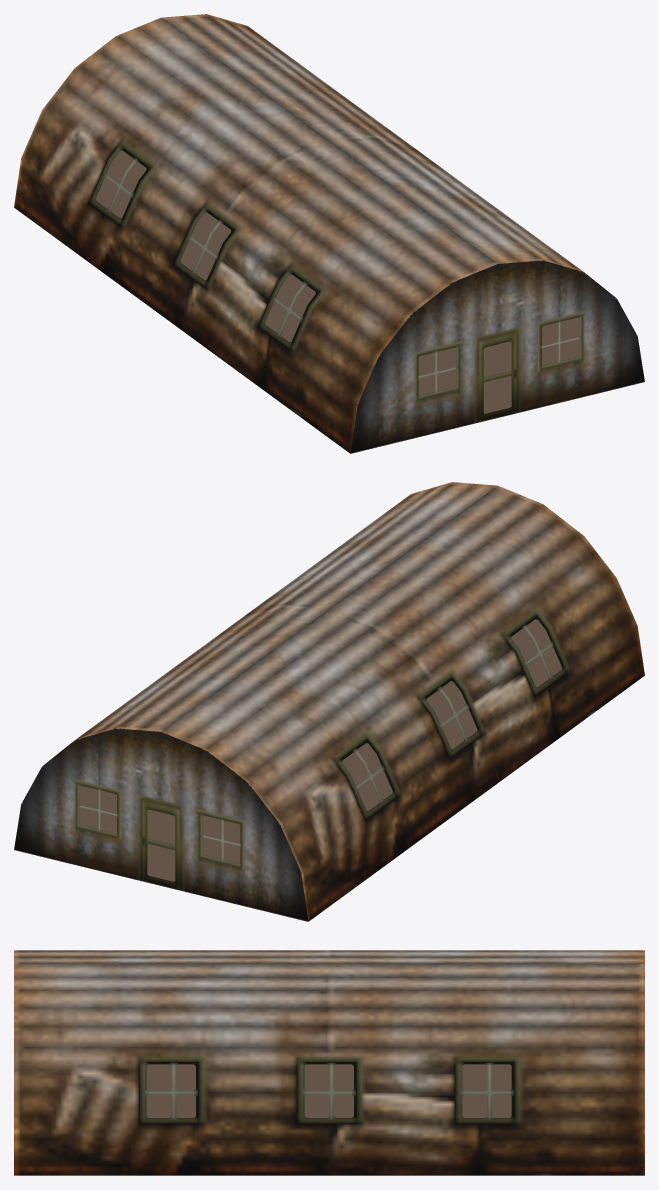
File: quonset.glb
3 views of the same model, one above another, from view 1: azimuth 30°, elevation 25°; view 2: azimuth 150°, elevation 25°; view 3: azimuth 270°, elevation 25° (orthographic). The views are drawn at different scales.
Visible parts, largest first — view 1: Quonset hut, LitWin_Quonset; view 2: Quonset hut, LitWin_Quonset; view 3: Quonset hut, LitWin_Quonset.
Boxes of the visible parts, x1,y1,x2,y2 form: Quonset hut: (14, 14, 644, 453); LitWin_Quonset: (96, 150, 579, 413); Quonset hut: (14, 482, 644, 921); LitWin_Quonset: (79, 619, 561, 881); Quonset hut: (14, 950, 644, 1175); LitWin_Quonset: (146, 1064, 511, 1117).
Size of the model in its own units: 8.5 by 4.27 by 16.83.
Materials: 1 (1 with a texture image).
